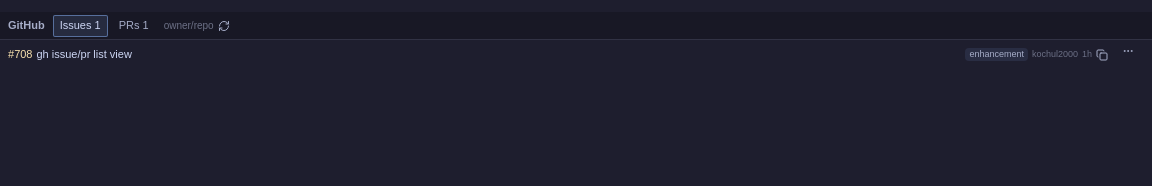
it: GitHubView › offers merge, squash, rebase, and close on pull requests and reports gh failures
Click the button with test id "github-tab-pulls": x=134, y=26 left=112, top=14, right=156, bottom=36
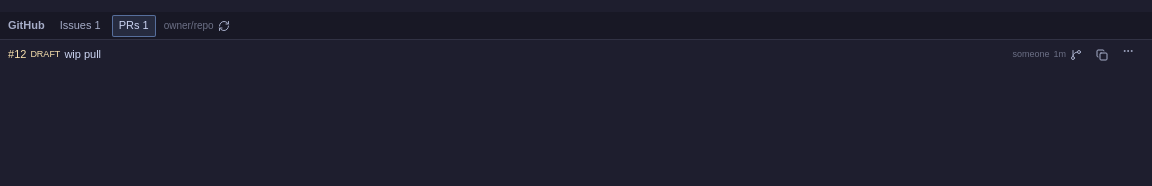
Click the button with test id "github-menu-12": x=1133, y=51 left=1122, top=40, right=1144, bottom=62
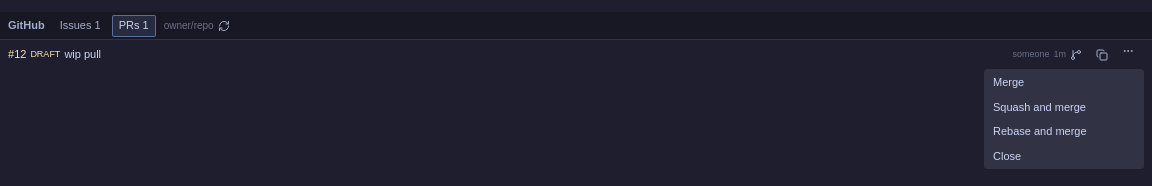
Expected: the button with test id "github-action-pr.merge-12" is shown
Expected: the button with test id "github-action-pr.squash-12" is shown, left=985, top=94, right=1143, bottom=119
Expected: the button with test id "github-action-pr.rebase-12" is shown, left=985, top=119, right=1143, bottom=144
Click the button with test id "github-action-pr.merge-12": x=1064, y=82 left=985, top=70, right=1143, bottom=94
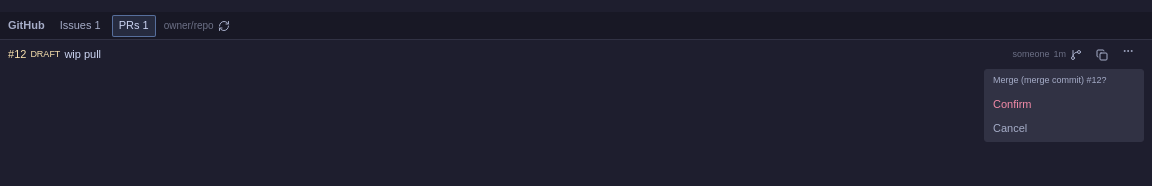
Click the button with test id "github-confirm-12": x=1064, y=104 left=985, top=92, right=1143, bottom=116
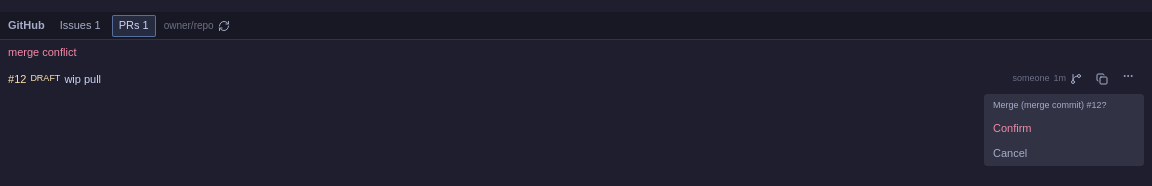
Expected: the text with test id "github-error" reads "merge conflict", left=8, top=46, right=76, bottom=58
